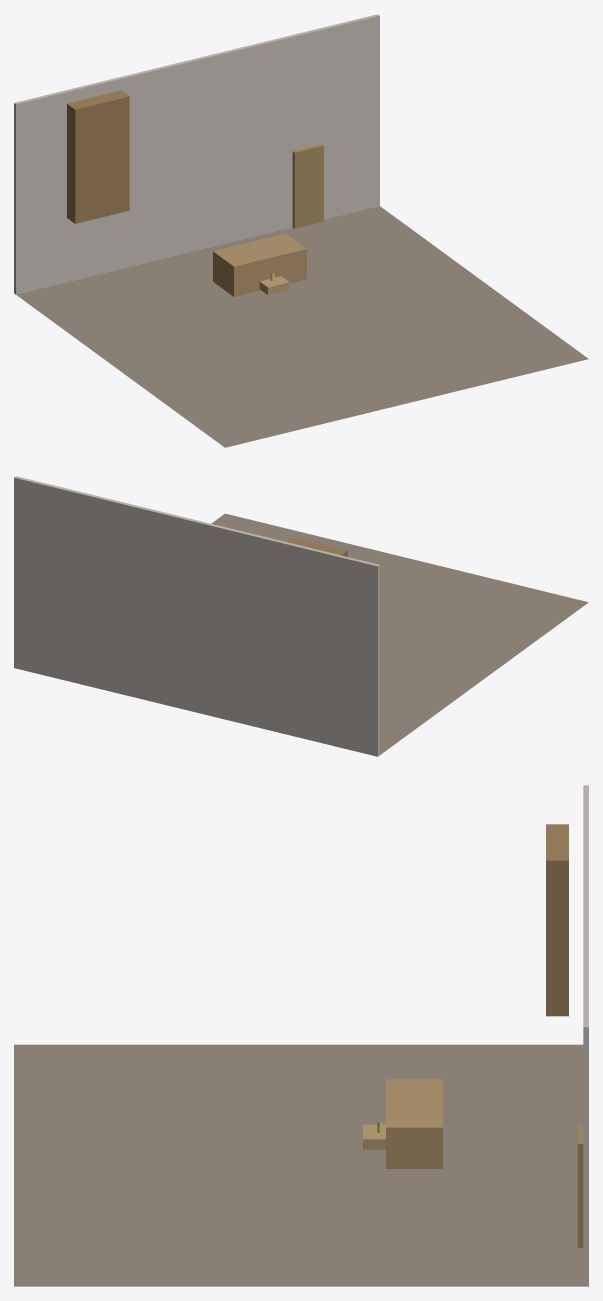
File: study.glb
The picture shows the model from 3 angles, top to bottom: view 1: azimuth 30°, elevation 25°; view 2: azimuth 150°, elevation 25°; view 3: azimuth 270°, elevation 25°; orthographic projection. The views are drawn at different scales.
Visible parts, largest first — view 1: Floor, BackWall, Bookshelf, Desk, Door; view 2: BackWall, Floor, Bookshelf; view 3: Floor, Desk, Bookshelf, BackWall, Door.
Boxes of the visible parts, <box> form: Floor: <box>16,206,588,447</box>; BackWall: <box>14,14,379,294</box>; Bookshelf: <box>67,90,129,223</box>; Desk: <box>213,233,306,296</box>; Door: <box>292,144,323,228</box>; BackWall: <box>14,476,379,756</box>; Floor: <box>211,513,588,754</box>; Bookshelf: <box>287,537,347,556</box>; Floor: <box>14,1044,583,1286</box>; Desk: <box>386,1079,442,1168</box>; Bookshelf: <box>546,824,568,1016</box>; BackWall: <box>583,785,588,1286</box>; Door: <box>577,1124,583,1247</box>.
Size of the model in its own units: 10 by 5 by 10.05.
